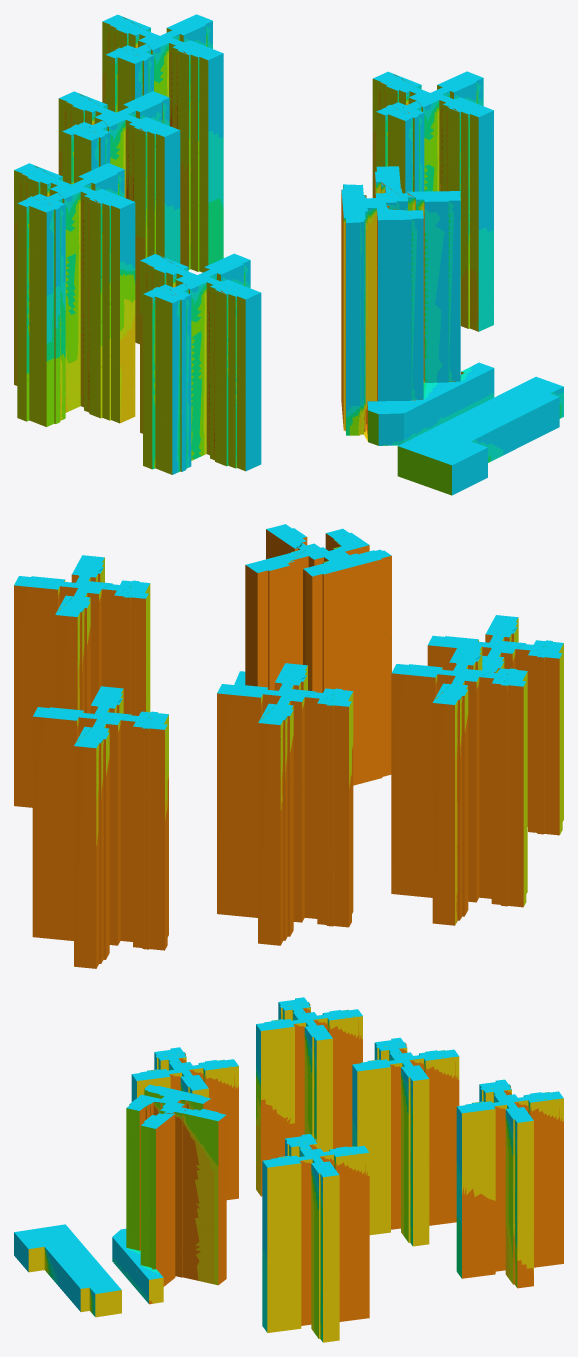
3 renders of one model, top to bottom at view 1: azimuth 30°, elevation 25°; view 2: azimuth 150°, elevation 25°; view 3: azimuth 270°, elevation 25°, orthographic. The views are drawn at different scales.
Parts seen in each view (by area): view 1: Object002.004, Object005.004, Object004.004, Object003.004, default.004, Object006.004, Object001.004; view 2: Object005.004, Object006.004, default.004, Object002.004, Object003.004, Object004.004; view 3: Object002.004, default.004, Object003.004, Object006.004, Object005.004, Object001.004, Object004.004.
Boxes of the visible parts, bbox=[...] form: Object002.004: bbox=[341, 166, 494, 445]; Object005.004: bbox=[14, 163, 135, 426]; Object004.004: bbox=[140, 253, 261, 474]; Object003.004: bbox=[372, 71, 493, 331]; default.004: bbox=[102, 14, 223, 272]; Object006.004: bbox=[58, 91, 180, 344]; Object001.004: bbox=[397, 376, 563, 495]; Object005.004: bbox=[391, 643, 527, 925]; Object006.004: bbox=[217, 663, 353, 945]; default.004: bbox=[32, 686, 168, 968]; Object002.004: bbox=[245, 524, 391, 785]; Object003.004: bbox=[14, 555, 150, 807]; Object004.004: bbox=[427, 615, 563, 835]; Object002.004: bbox=[112, 1084, 226, 1304]; default.004: bbox=[456, 1079, 563, 1288]; Object003.004: bbox=[262, 1134, 369, 1342]; Object006.004: bbox=[352, 1037, 459, 1246]; Object005.004: bbox=[256, 997, 362, 1196]; Object001.004: bbox=[14, 1224, 121, 1317]; Object004.004: bbox=[131, 1047, 238, 1199].
Size of the model in its own units: 165 by 70.57 by 213.
